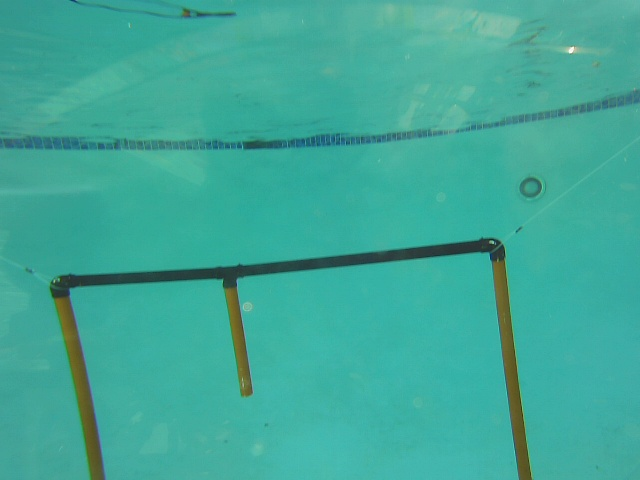Gate: (46, 293, 108, 480), (488, 253, 539, 480), (219, 281, 255, 399)
